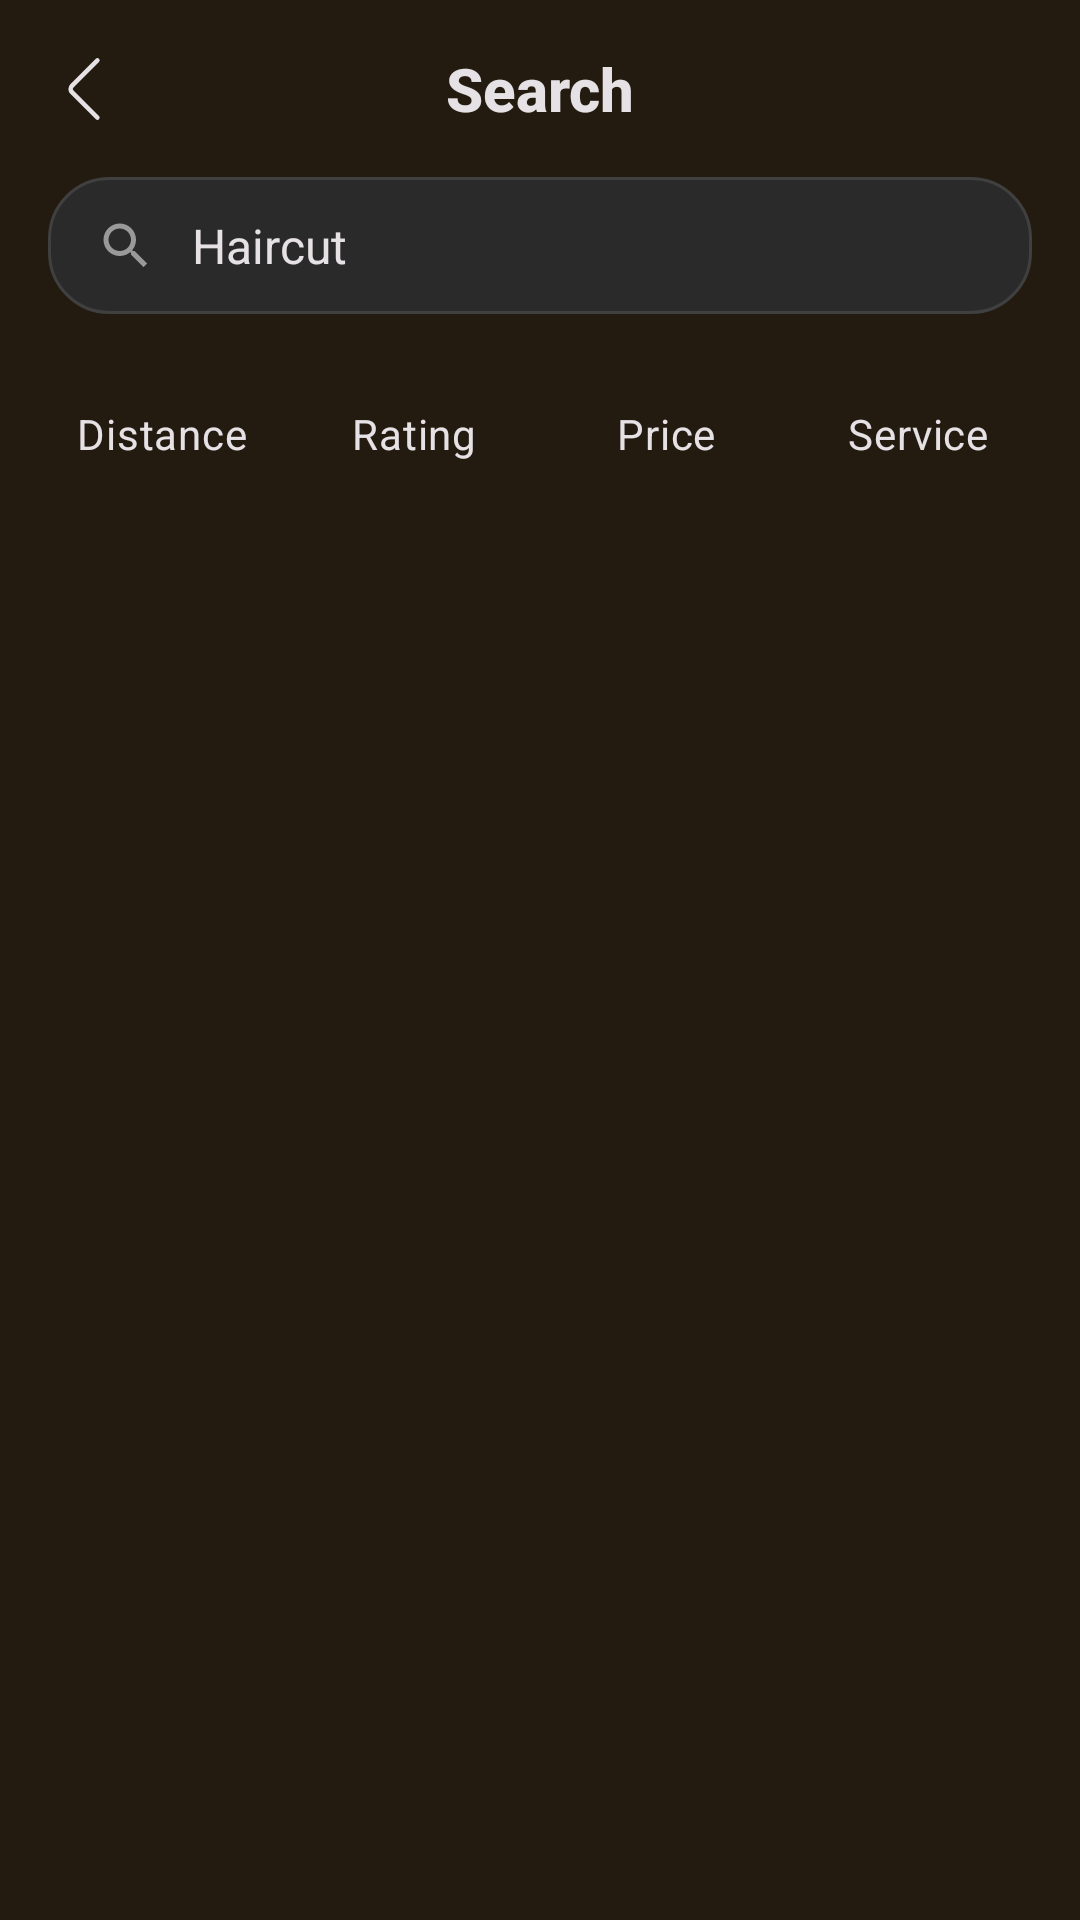

Point at icon controls on the screen. Image size 1080×1920, points as [x,y].
arrow back: [84,89]
